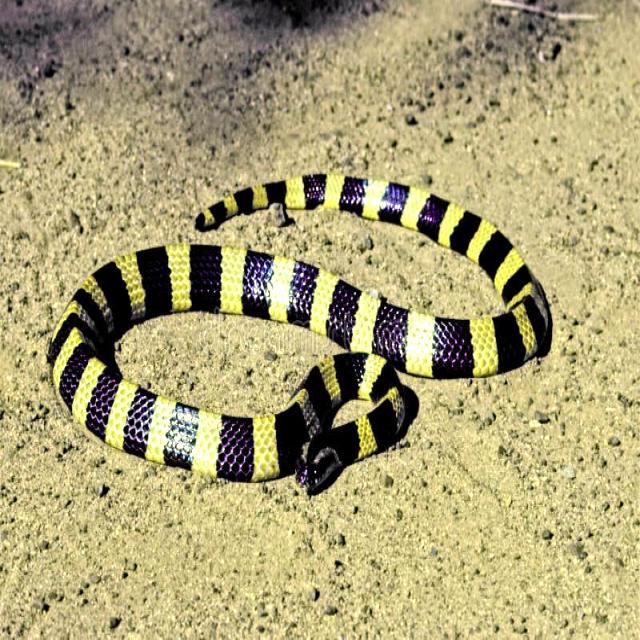Bungarus fasciatus: (48, 174, 550, 491)
snake: (48, 174, 550, 491)
